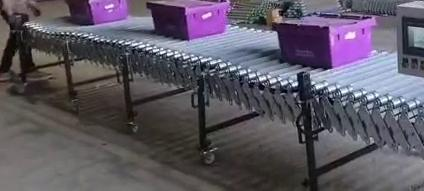box: (274, 14, 375, 68), (146, 0, 230, 40)
